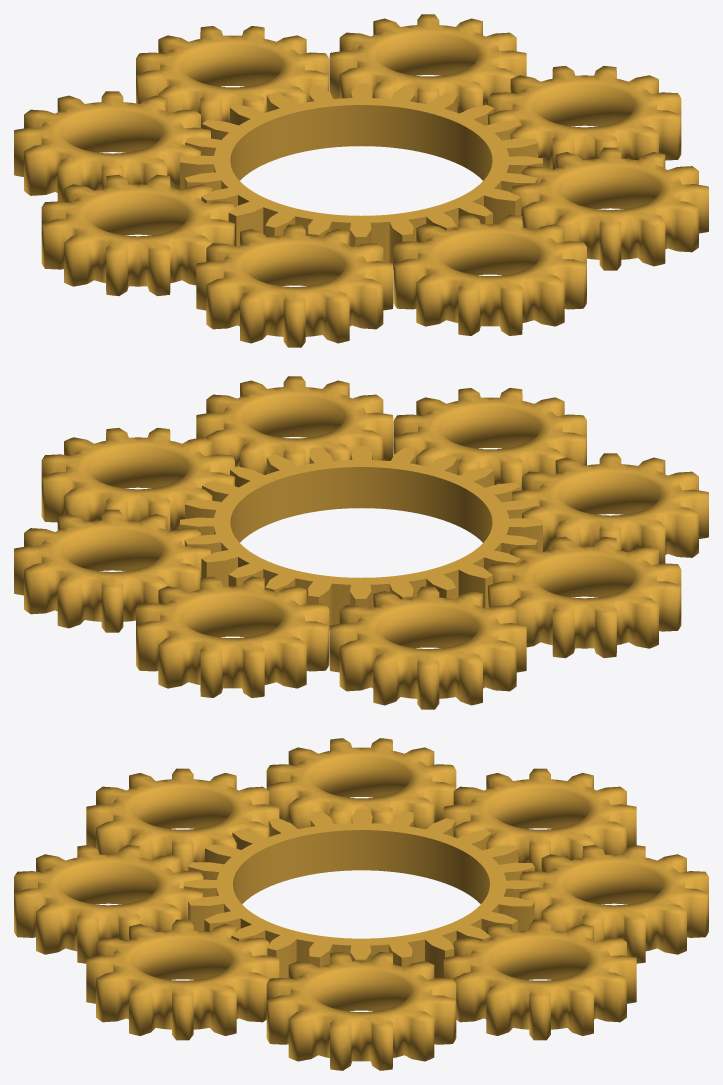
The model's file is wheel.glb.
The picture shows the model from 3 angles, top to bottom: view 1: azimuth 30°, elevation 25°; view 2: azimuth 150°, elevation 25°; view 3: azimuth 270°, elevation 25°; orthographic projection.
Parts seen in each view (by area): view 1: Gear.006, Gear.008, Gear.003, Gear, Gear.007, Gear.004, Gear.002, Gear.005, Gear.001; view 2: Gear.006, Gear.004, Gear.001, Gear, Gear.005, Gear.008, Gear.002, Gear.007, Gear.003; view 3: Gear.006, Gear.002, Gear.005, Gear.007, Gear.001, Gear.003, Gear, Gear.004, Gear.008.
Boxes of the visible parts, x1=… form: Gear.006: x1=180, y1=83, x2=542, y2=269; Gear.008: x1=196, y1=224, x2=393, y2=347; Gear.003: x1=393, y1=214, x2=586, y2=335; Gear: x1=41, y1=174, x2=234, y2=296; Gear.007: x1=512, y1=147, x2=708, y2=270; Gear.004: x1=14, y1=91, x2=210, y2=201; Gear.002: x1=488, y1=65, x2=681, y2=169; Gear.005: x1=329, y1=14, x2=526, y2=113; Gear.001: x1=136, y1=26, x2=329, y2=128; Gear.006: x1=180, y1=445, x2=542, y2=629; Gear.004: x1=329, y1=586, x2=526, y2=709; Gear.001: x1=136, y1=576, x2=329, y2=697; Gear: x1=488, y1=536, x2=681, y2=658; Gear.005: x1=14, y1=509, x2=210, y2=632; Gear.008: x1=512, y1=453, x2=708, y2=563; Gear.002: x1=41, y1=427, x2=234, y2=531; Gear.007: x1=196, y1=376, x2=393, y2=474; Gear.003: x1=393, y1=388, x2=586, y2=489; Gear.006: x1=183, y1=809, x2=539, y2=978; Gear.002: x1=266, y1=951, x2=456, y2=1070; Gear.005: x1=443, y1=919, x2=636, y2=1040; Gear.007: x1=86, y1=919, x2=279, y2=1040; Gear.001: x1=519, y1=845, x2=708, y2=963; Gear.003: x1=14, y1=845, x2=203, y2=963; Gear: x1=266, y1=738, x2=456, y2=829; Gear.004: x1=443, y1=768, x2=636, y2=871; Gear.008: x1=86, y1=768, x2=279, y2=871.
Size of what is drawn, in the model's own units: 8.44 by 0.54 by 8.44.
